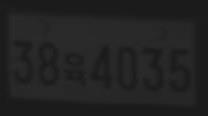0: (114, 46, 139, 92)
3: (139, 45, 165, 92), (12, 38, 37, 83)
4: (90, 43, 114, 88)
5: (168, 46, 192, 94)
8: (37, 40, 60, 86)
육: (61, 52, 88, 88)
